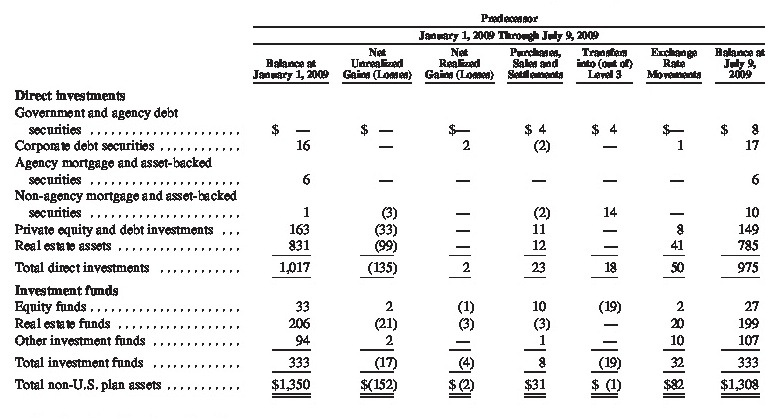table: (0, 0, 780, 418)
